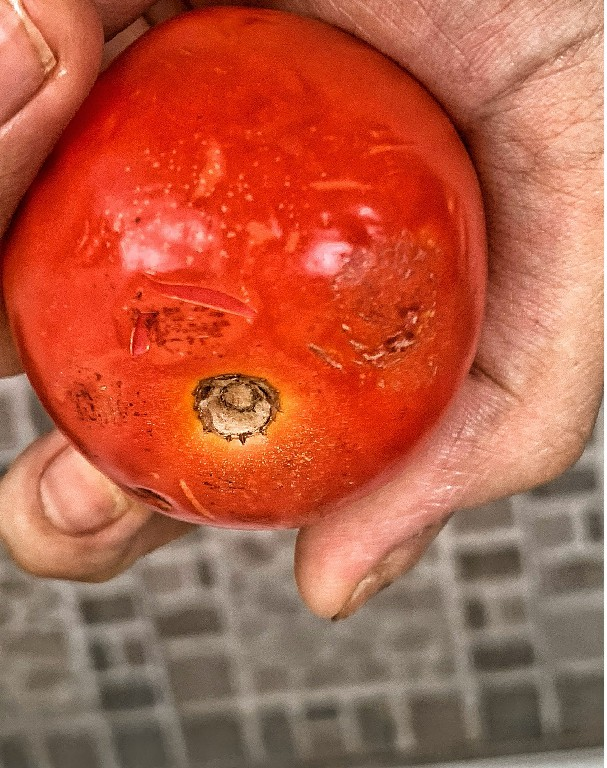NG: (4, 5, 489, 531)
